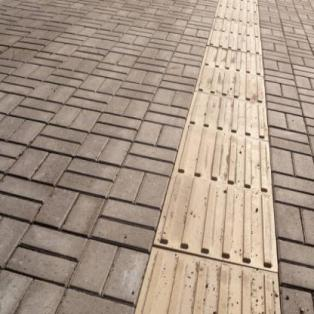Podoctatil: (135, 0, 282, 314)
